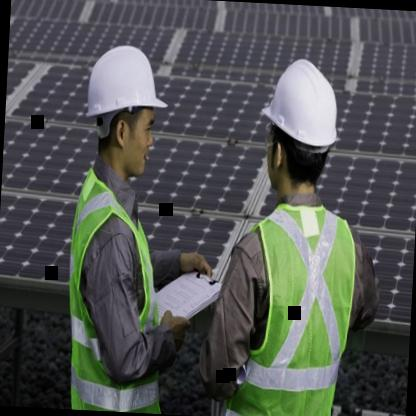helmet: (255, 44, 348, 204), (76, 32, 170, 187)
